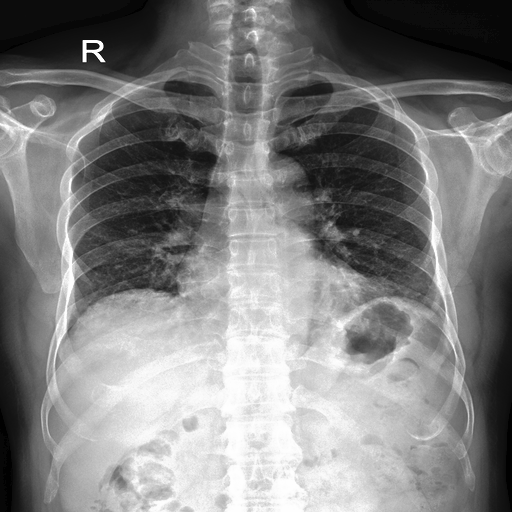Cardiomegaly: (278, 131, 439, 345), (114, 154, 195, 295), (346, 218, 423, 306)
ILD: (90, 229, 179, 294), (344, 240, 433, 301)
Pleural thickening: (90, 229, 179, 294), (344, 240, 433, 301)
